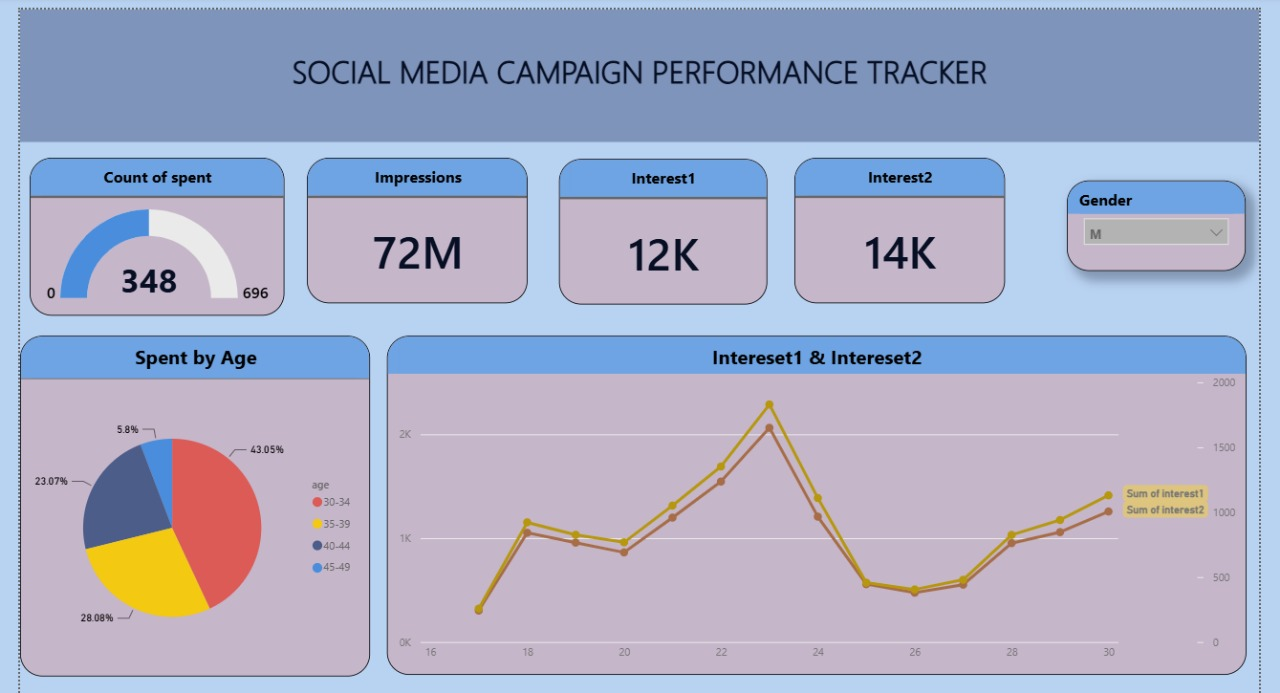

The dashboard page shown, as its layout file describes it:
{"tool":"powerbi","page":{"name":"Page 1","canvas":[1280,720],"ordinal":0},"visuals":[{"type":"textbox","box":[0,0,1280.2,137],"z":0},{"type":"card","title":"Impressions","fields":{"Values":["Sum(data.impressions)"]},"box":[296.3,153.1,228.4,150.6],"z":2},{"type":"card","title":"Interest1","fields":{"Values":["Sum(data.interest1)"]},"box":[556.8,154.3,214.8,150.6],"z":3},{"type":"card","title":"Interest2","fields":{"Values":["Sum(data.interest2)"]},"box":[800,153.1,217.3,150.6],"z":4},{"type":"gauge","fields":{"Y":["Count(data.spent)"]},"box":[9.9,153.1,263,163],"z":6},{"type":"pieChart","title":"Spent by Age","fields":{"Y":["Sum(data.spent)"],"Category":["data.age"]},"box":[0,337,361.7,351.9],"z":7},{"type":"slicer","title":"Gender","fields":{"Values":["data.genders"]},"box":[1081.5,176.5,185.2,93.8],"z":8},{"type":"lineChart","title":"Intereset1 & Intereset2","fields":{"Category":["data.reporting_start.Variation.Date Hierarchy.Day"],"Y2":["Sum(data.interest1)"],"Y":["Sum(data.interest2)"]},"box":[379,337,887.7,350.6],"z":9}]}

Visuals, with their boxes in screenshot pixels (x1, y1, x2, y2):
textbox: [10, 0, 1270, 135]
"Impressions" card: [302, 151, 527, 299]
"Interest1" card: [558, 152, 770, 300]
"Interest2" card: [798, 151, 1012, 299]
gauge - Count(data.spent): [20, 151, 279, 311]
"Spent by Age" pieChart: [10, 332, 366, 678]
"Gender" slicer: [1075, 174, 1257, 266]
"Intereset1 & Intereset2" lineChart: [383, 332, 1257, 677]
